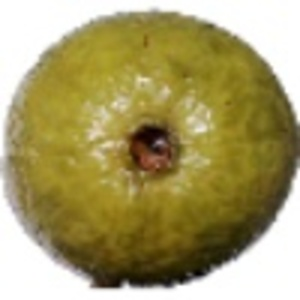goiaba: (4, 5, 294, 284)
